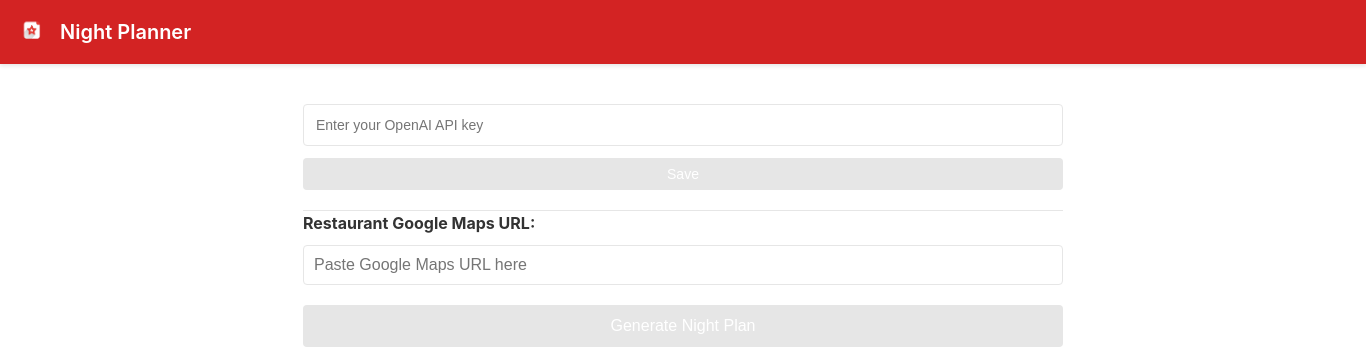
it: App Component › saves API key and shows 'API Key Saved' after clicking Save
In the password field with placeholder "Enter your OpenAI API key": [683, 125] box [303,104,1063,146], type "test-key"
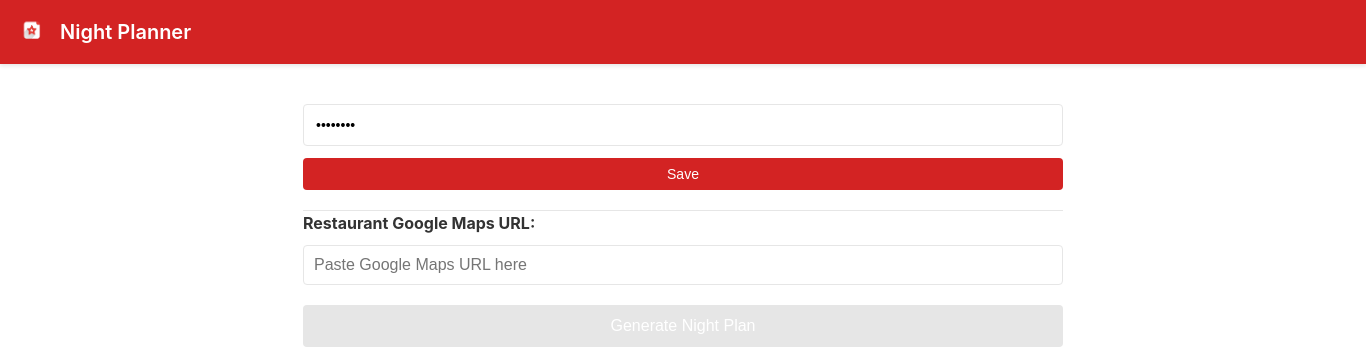
Click the button "Save": [683, 174] box [303,158,1063,190]
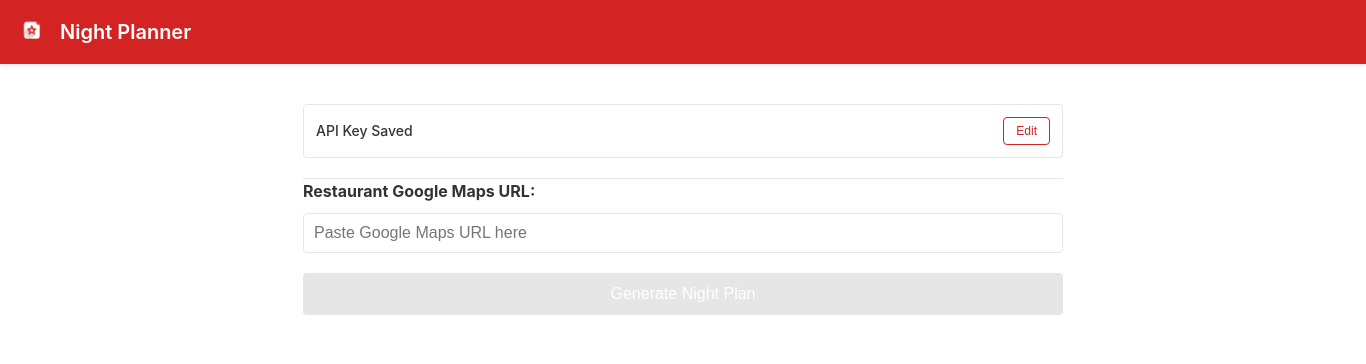
Check: the text "API Key Saved" is shown, box [316,120,413,142]
Check: the button "Edit" is shown, box [1003,117,1050,145]
